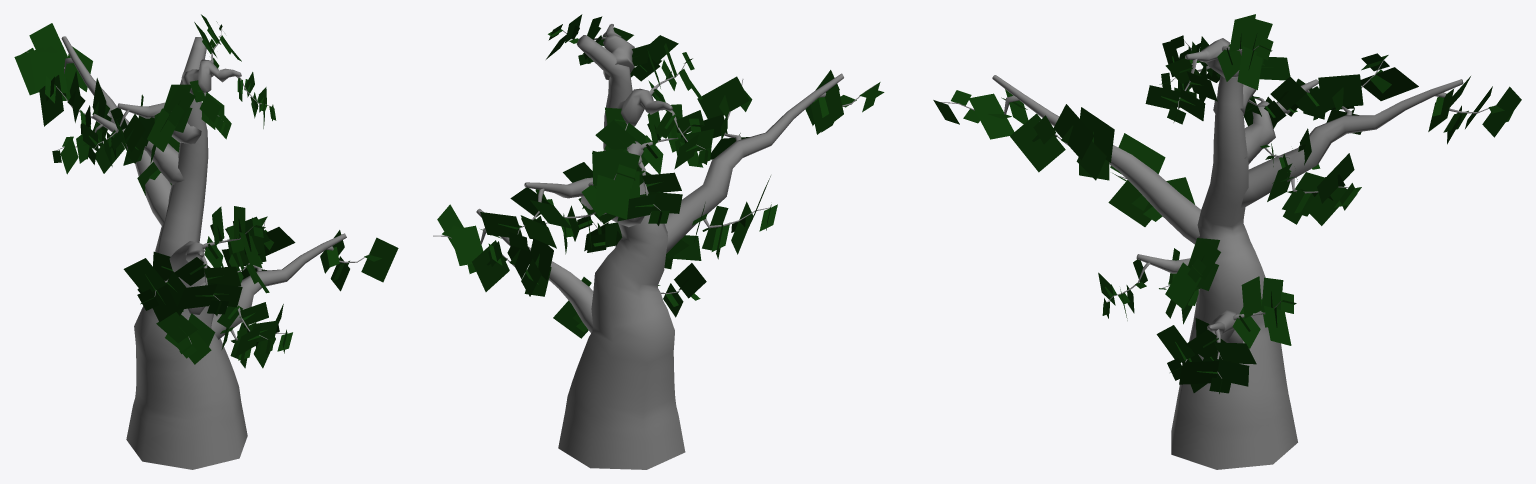
File: Tree C.obj
The picture shows the model from 3 angles, left to right: view 1: azimuth 30°, elevation 25°; view 2: azimuth 150°, elevation 25°; view 3: azimuth 270°, elevation 25°; orthographic projection. The views are drawn at different scales.
Parts seen in each view (by area): view 1: Leaves Tree_C, Tree_C Trunk; view 2: Tree_C Trunk, Leaves Tree_C; view 3: Leaves Tree_C, Tree_C Trunk.
Part boxes in pixels (bbox=[...]): Leaves Tree_C: bbox=[14, 14, 398, 368]; Tree_C Trunk: bbox=[26, 29, 369, 469]; Tree_C Trunk: bbox=[433, 24, 874, 469]; Leaves Tree_C: bbox=[437, 14, 884, 338]; Leaves Tree_C: bbox=[933, 14, 1521, 393]; Tree_C Trunk: bbox=[940, 38, 1496, 469].
Size of the model in its own units: 1.43 by 1.72 by 2.09.
